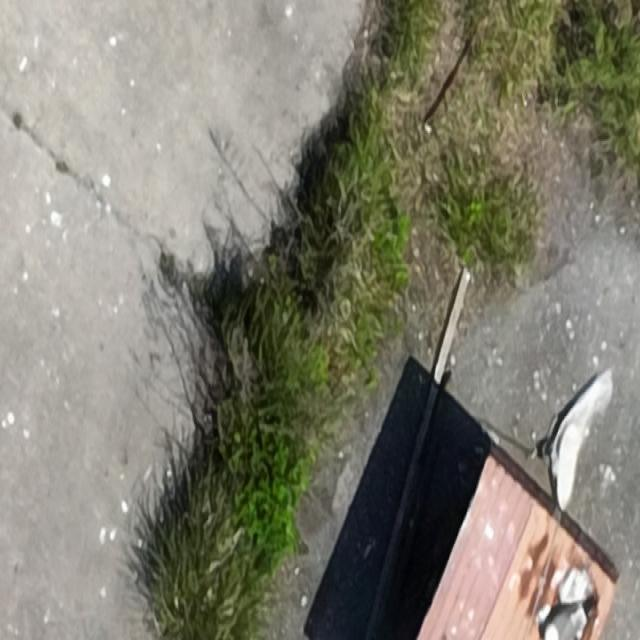umineko: (548, 598, 594, 638)
